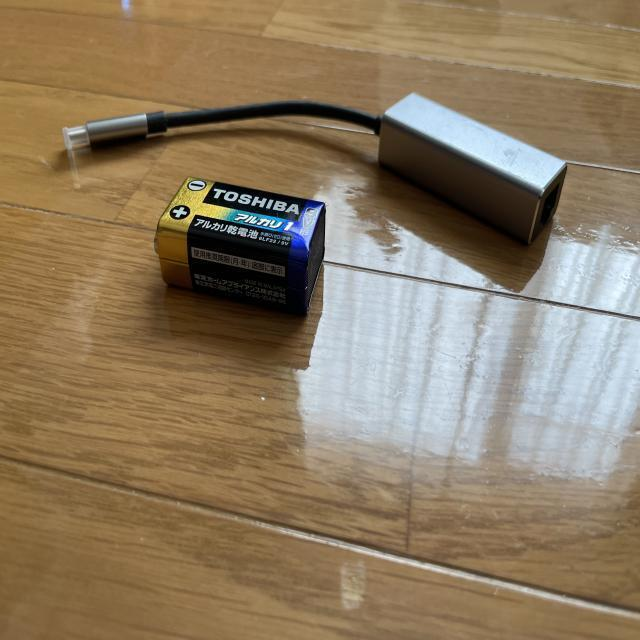9V: (154, 177, 328, 320)
